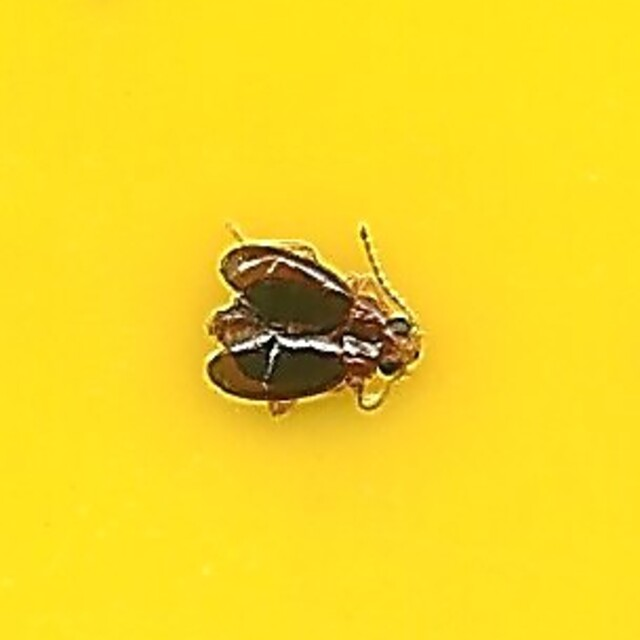Coleoptera: (211, 224, 429, 416)
